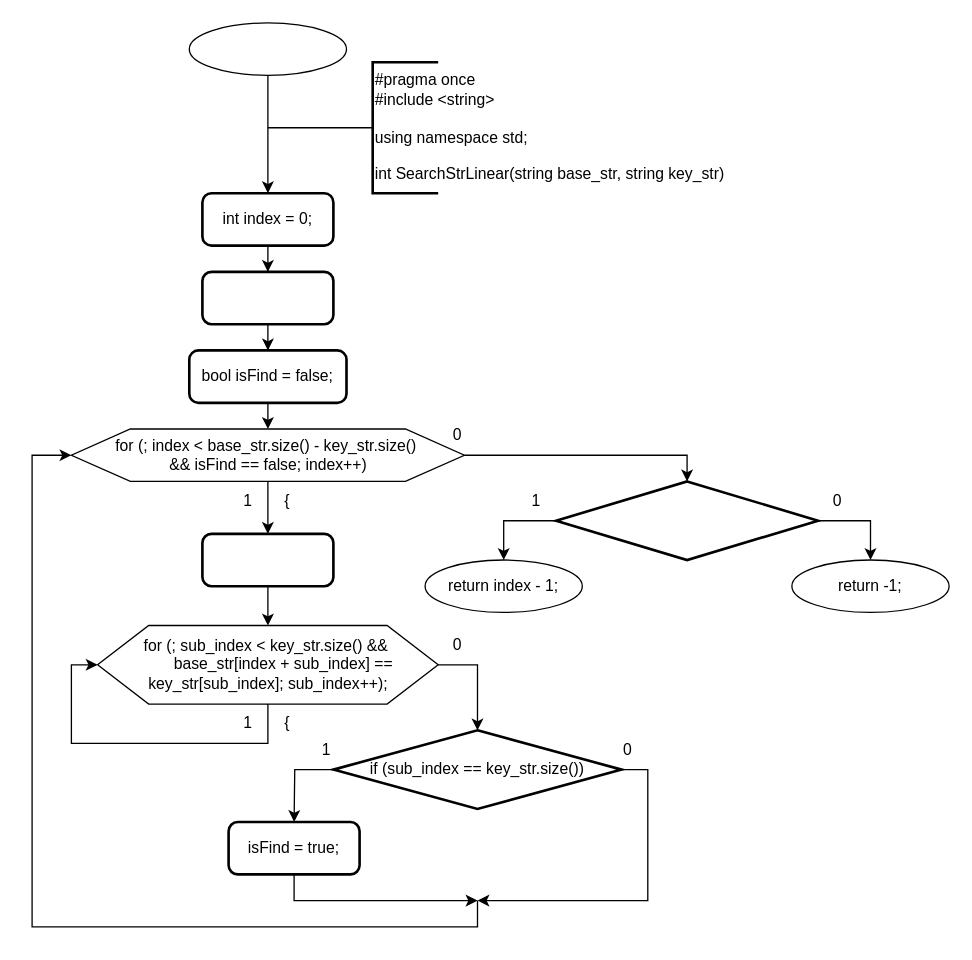
This 972x960 diagram has some shape labels left out. Each missing label, with the centre of its shape:
"if (isFind)" belongs at point (686, 520).
"int sub_index;" belongs at point (267, 297).
"start" belongs at point (267, 48).
"sub_index = 0;" belongs at point (267, 559).
